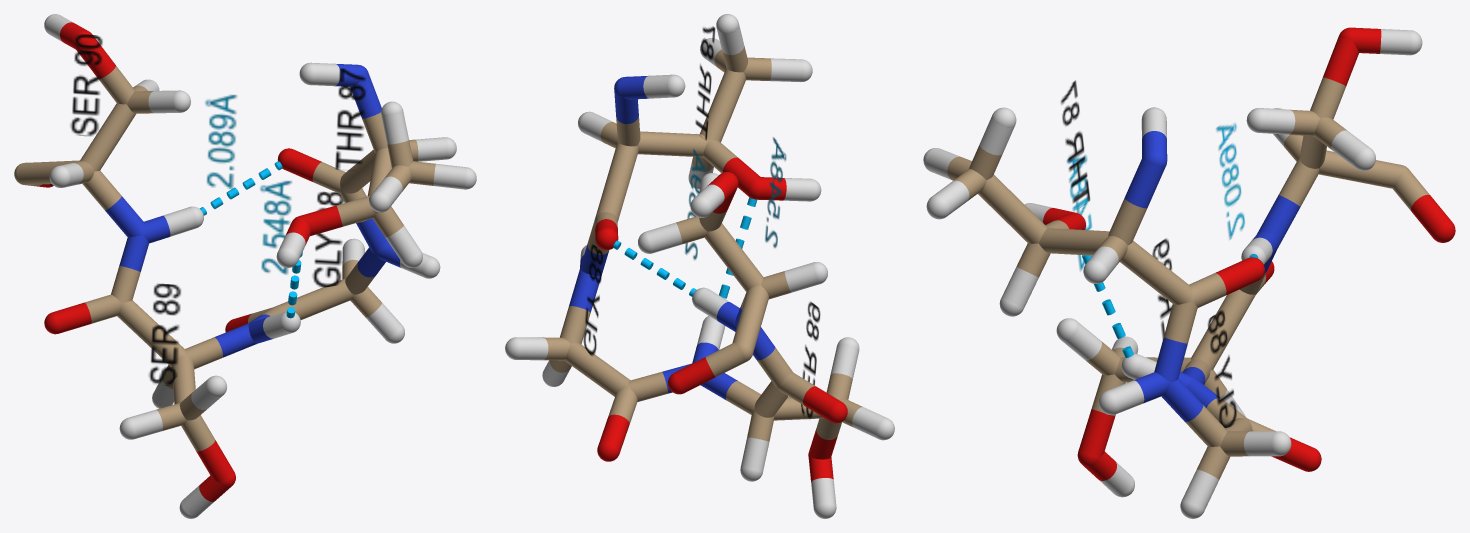
The model's file is 7rsa_turn1_turn.glb.
3 views of the same model, side by side, from view 1: azimuth 30°, elevation 25°; view 2: azimuth 150°, elevation 25°; view 3: azimuth 270°, elevation 25° (orthographic). The views are drawn at different scales.
Parts seen in each view (by area): view 1: New_Node; view 2: New_Node; view 3: New_Node.
Part boxes in pixels (left/top/right/bottom): New_Node: left=14, top=14, right=476, bottom=518; New_Node: left=505, top=14, right=894, bottom=518; New_Node: left=923, top=27, right=1455, bottom=518.
Size of the model in its own units: 226731 by 280267 by 277803.
Materials: 4 (2 with a texture image).
